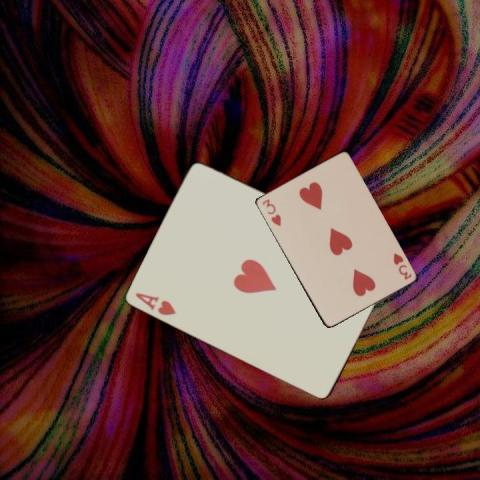3h: (258, 196, 283, 227), (390, 250, 413, 281)
Ah: (133, 289, 178, 317)
